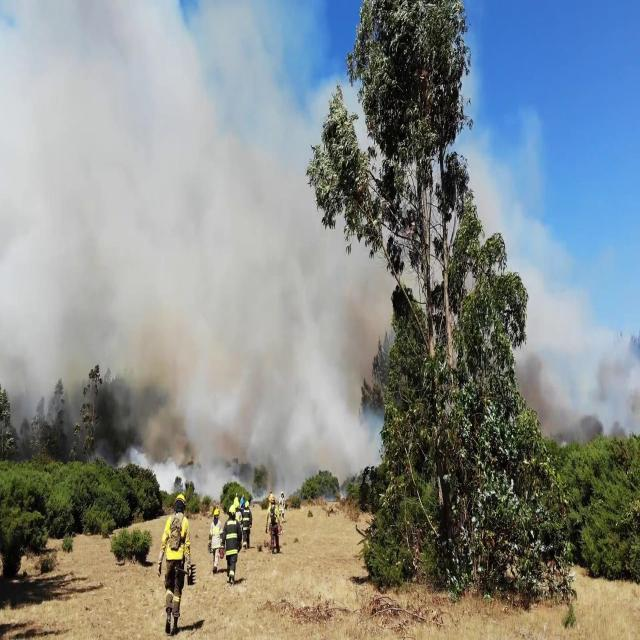Smoke: (0, 0, 367, 476), (508, 229, 633, 436)
